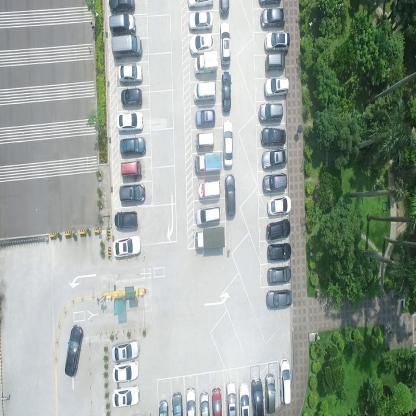car: (64, 322, 84, 378), (195, 225, 226, 250), (112, 34, 141, 60), (112, 232, 141, 258), (112, 382, 140, 407), (112, 358, 140, 382), (278, 357, 292, 405), (111, 337, 139, 361), (193, 51, 219, 76), (261, 147, 288, 170), (115, 111, 144, 132), (194, 152, 221, 174), (109, 14, 136, 36), (266, 216, 290, 240), (266, 192, 290, 216), (260, 8, 286, 30), (264, 32, 290, 54), (118, 64, 144, 86), (196, 204, 222, 226), (266, 287, 292, 309), (264, 75, 289, 97), (258, 100, 283, 122), (266, 264, 291, 286), (261, 171, 287, 192), (219, 21, 231, 66), (223, 119, 234, 168), (118, 184, 146, 203), (189, 10, 213, 32), (189, 33, 214, 54), (120, 137, 146, 157), (224, 171, 236, 214), (197, 180, 220, 202), (192, 82, 217, 102), (260, 128, 287, 146), (114, 209, 138, 229), (252, 375, 264, 415), (265, 372, 276, 415), (268, 242, 292, 261), (221, 70, 231, 112), (264, 52, 285, 72), (120, 160, 142, 179), (120, 88, 142, 107), (238, 381, 250, 415), (195, 108, 216, 127), (226, 380, 237, 416), (108, 0, 136, 14), (195, 132, 215, 149), (186, 386, 196, 416), (212, 386, 222, 415), (199, 389, 209, 415), (187, 0, 214, 9), (172, 392, 182, 415), (219, 0, 230, 16), (158, 400, 168, 416)
